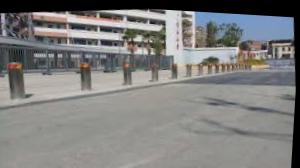Animal: (8, 58, 30, 96), (117, 56, 135, 84), (80, 58, 93, 85), (151, 59, 162, 82), (167, 61, 180, 80), (196, 59, 206, 74), (188, 60, 193, 73)
